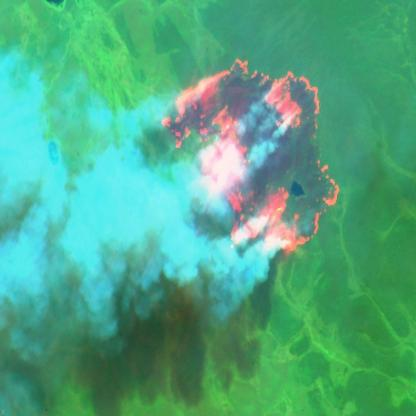fire: (156, 51, 342, 261)
